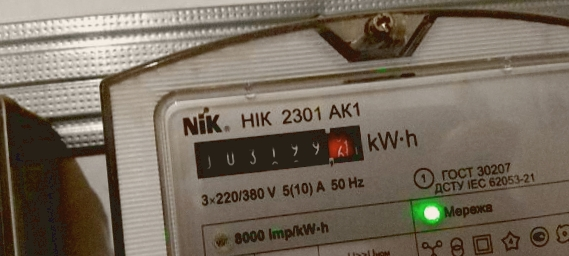0: (223, 147, 236, 167), (200, 150, 211, 169)
1: (267, 140, 277, 159)
3: (245, 145, 257, 166)
6: (333, 142, 344, 157)
9: (287, 137, 299, 158), (309, 137, 321, 156)
screen: (184, 115, 370, 185)
